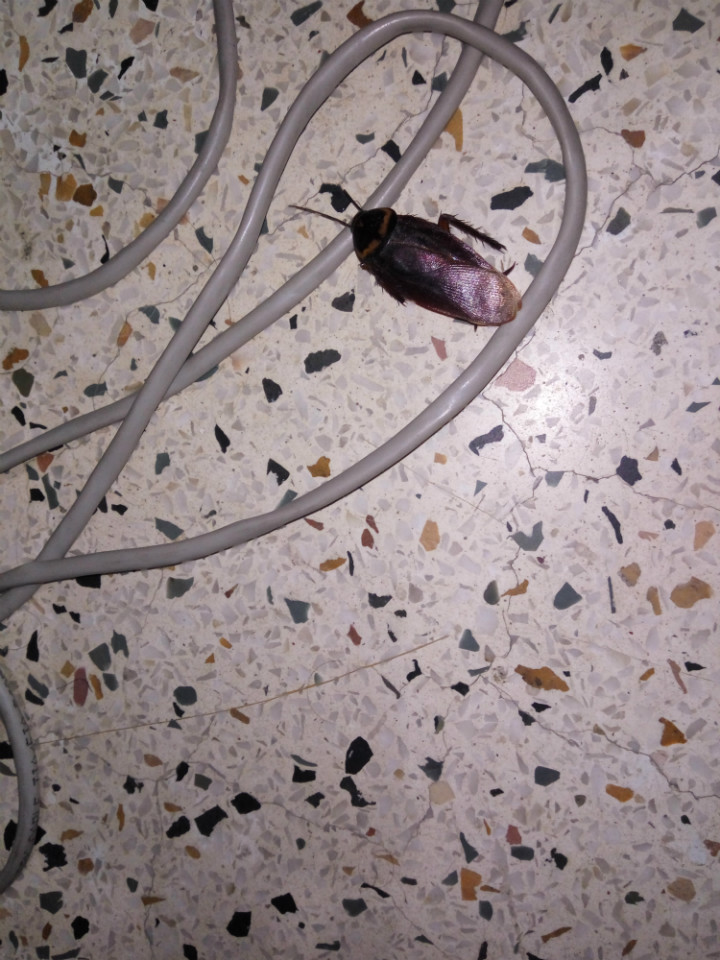cockroach: (290, 157, 543, 353)
